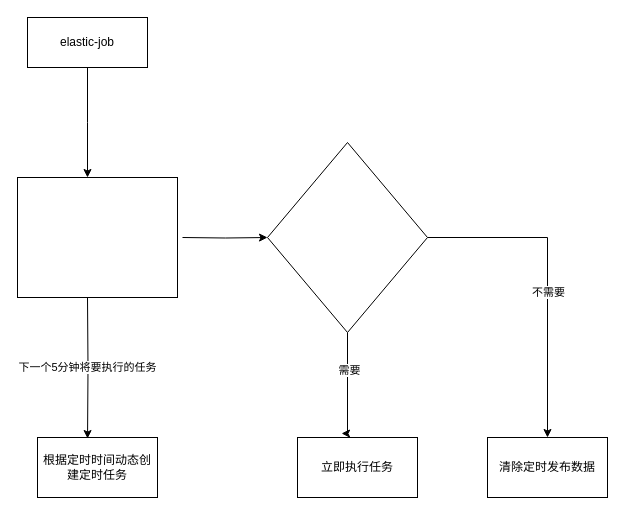
Some shapes in this 625 by 515 pixel diagram are drawn without their labels. The shapes that lost their labels are listed below. From the top down, each one's box as (x1, y1, x2, y2) in pixels, then its label:
(16, 176, 178, 298): 每5分钟拉取一次下一个5分钟将要发布的数据，以及之前要发布而未发布的数据
(266, 142, 428, 332): 之前要发布而未发布的数据，判断是否还需要发布
